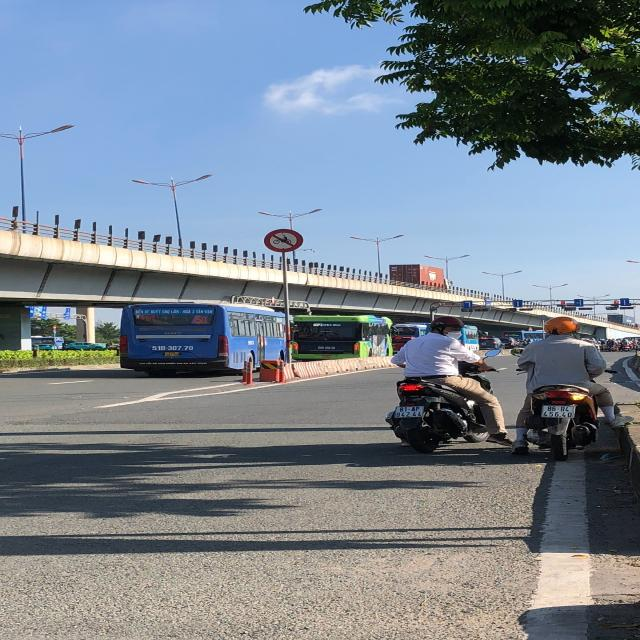Bien bao cam xe may: (261, 227, 306, 254)
